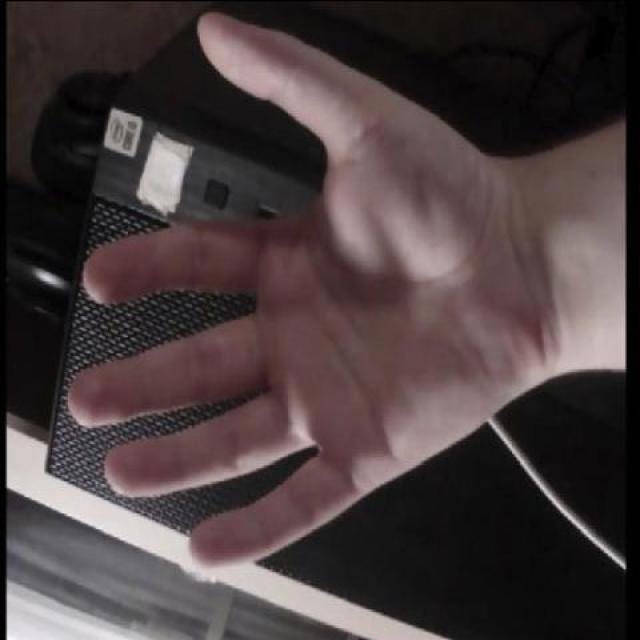Open Hand: (59, 0, 574, 583)
